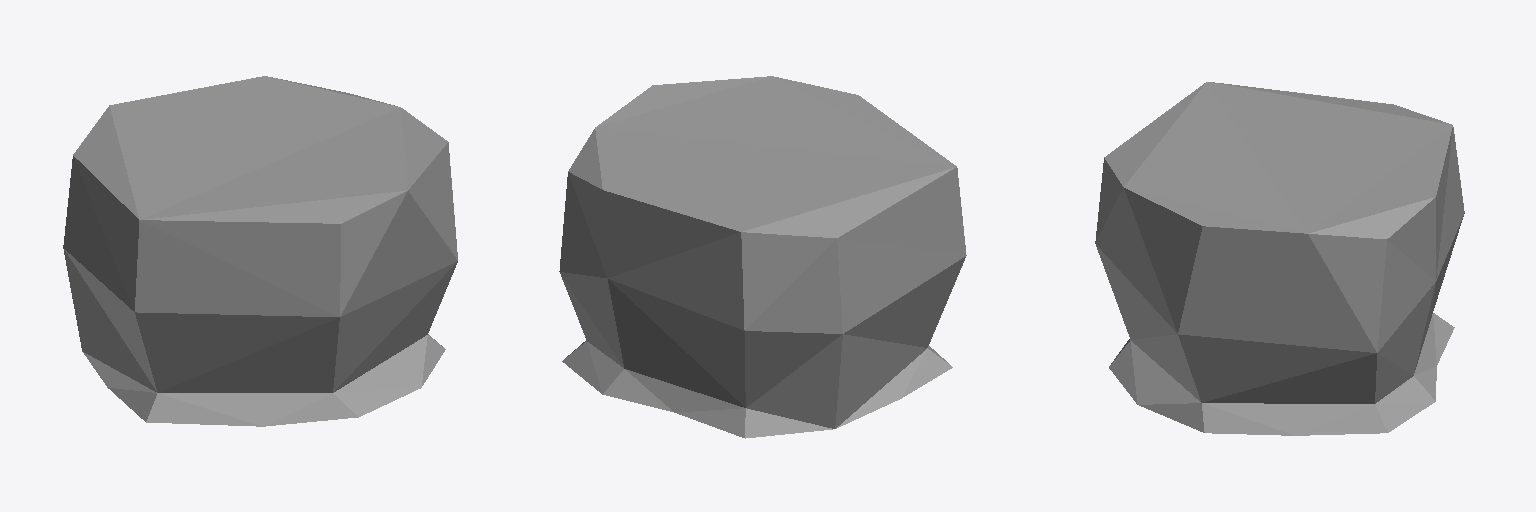
The model's file is Mesh_CavePack_Platform1_lod1.obj.
The picture shows the model from 3 angles: view 1: azimuth 30°, elevation 25°; view 2: azimuth 150°, elevation 25°; view 3: azimuth 270°, elevation 25°; orthographic projection.
Parts seen in each view (by area): view 1: Circle; view 2: Circle; view 3: Circle.
Part boxes in pixels (bbox=[...]): Circle: bbox=[63, 76, 457, 426]; Circle: bbox=[559, 76, 966, 438]; Circle: bbox=[1095, 82, 1464, 435].
Bounding box in the file's own units: 7.41 × 4.65 × 7.42.